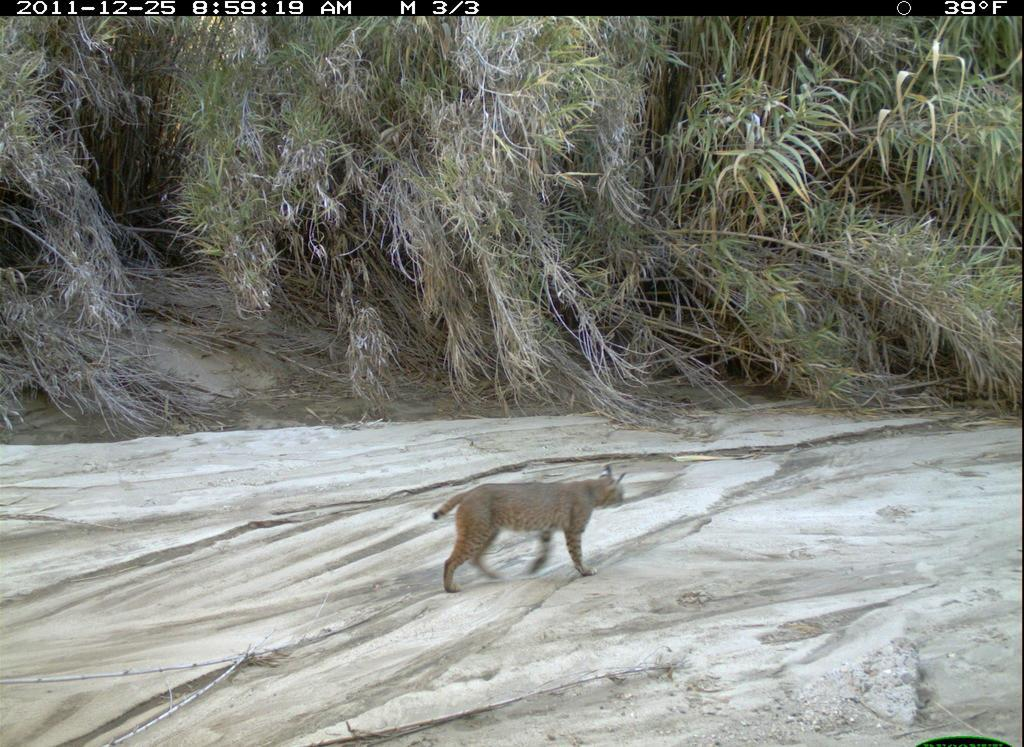bobcat: (424, 463, 634, 593)
